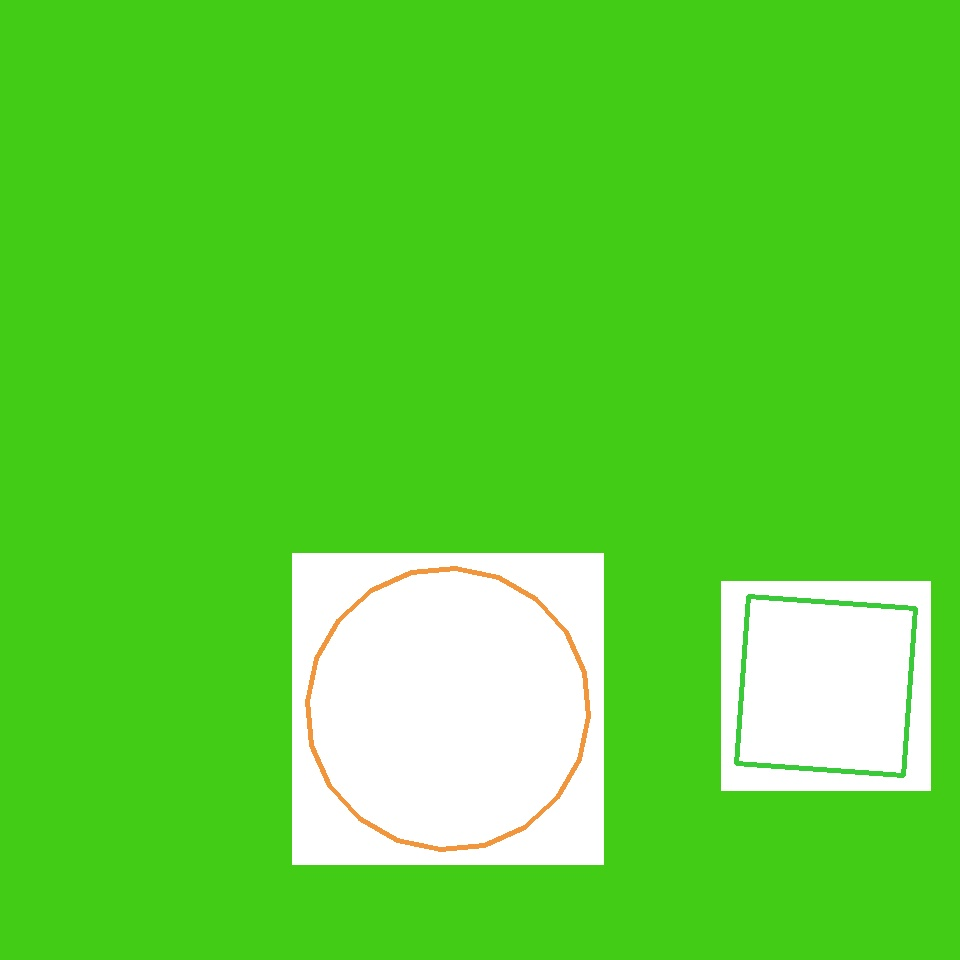circle: (503, 29, 699, 245)
square: (736, 596, 916, 776)
triangle: (212, 632, 506, 925), (308, 568, 588, 850)
